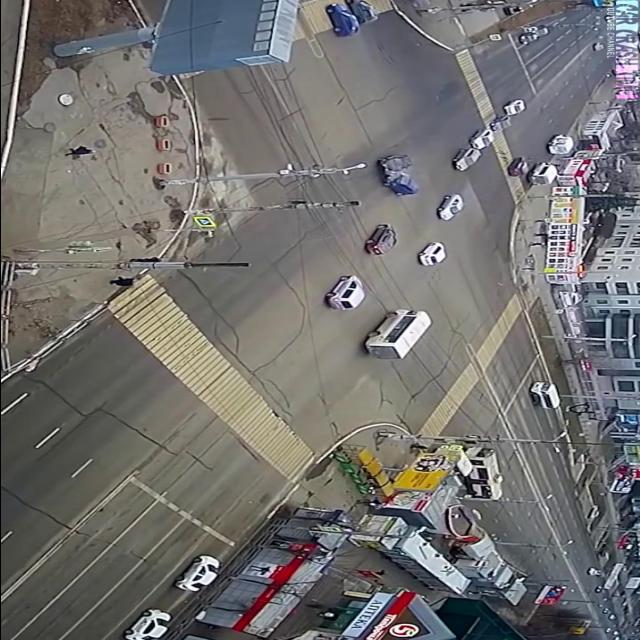accident: (370, 146, 434, 202)
non_accident: (440, 99, 532, 177), (323, 0, 386, 40)
